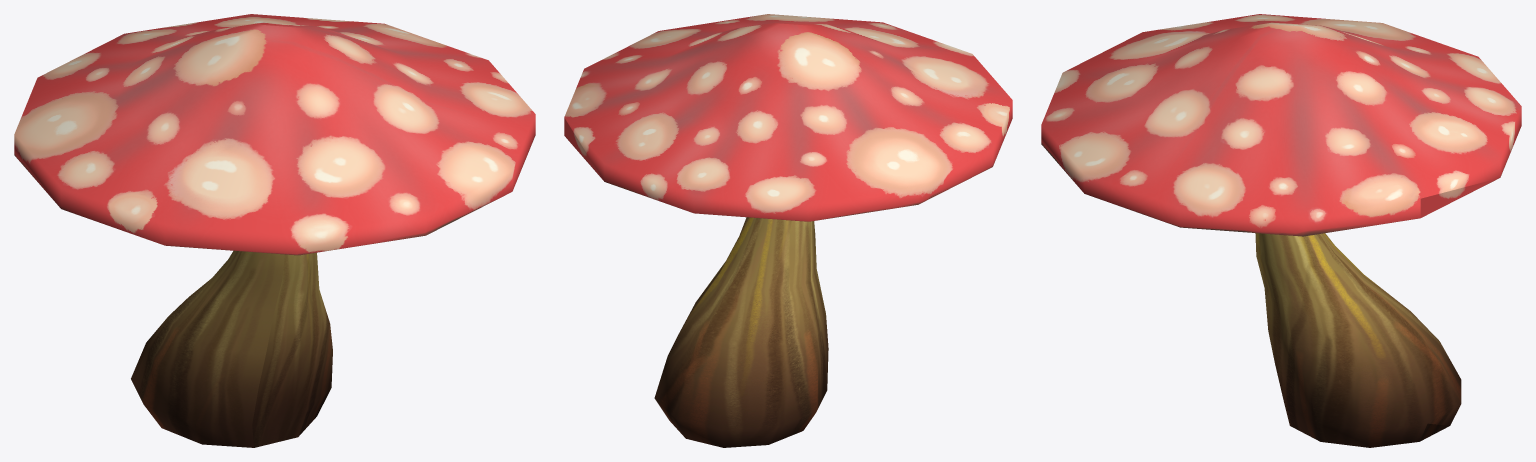
Rendered from Mushroom.fbx.
The picture shows the model from 3 angles, left to right: view 1: azimuth 30°, elevation 25°; view 2: azimuth 150°, elevation 25°; view 3: azimuth 270°, elevation 25°; orthographic projection. The views are drawn at different scales.
Parts seen in each view (by area): view 1: AllTogether:group14MushroomspCylinder4, AllTogether:pCylinder2group14Mushrooms; view 2: AllTogether:group14MushroomspCylinder4, AllTogether:pCylinder2group14Mushrooms; view 3: AllTogether:group14MushroomspCylinder4, AllTogether:pCylinder2group14Mushrooms.
Part boxes in pixels (left/top/right/bottom): AllTogether:group14MushroomspCylinder4: left=14, top=14, right=535, bottom=255; AllTogether:pCylinder2group14Mushrooms: left=131, top=250, right=332, bottom=447; AllTogether:group14MushroomspCylinder4: left=564, top=14, right=1012, bottom=221; AllTogether:pCylinder2group14Mushrooms: left=654, top=217, right=828, bottom=447; AllTogether:group14MushroomspCylinder4: left=1041, top=14, right=1521, bottom=236; AllTogether:pCylinder2group14Mushrooms: left=1255, top=233, right=1461, bottom=447.
Size of the model in its own units: 5.84 by 5.09 by 5.84.
2 materials, 2 textured.
